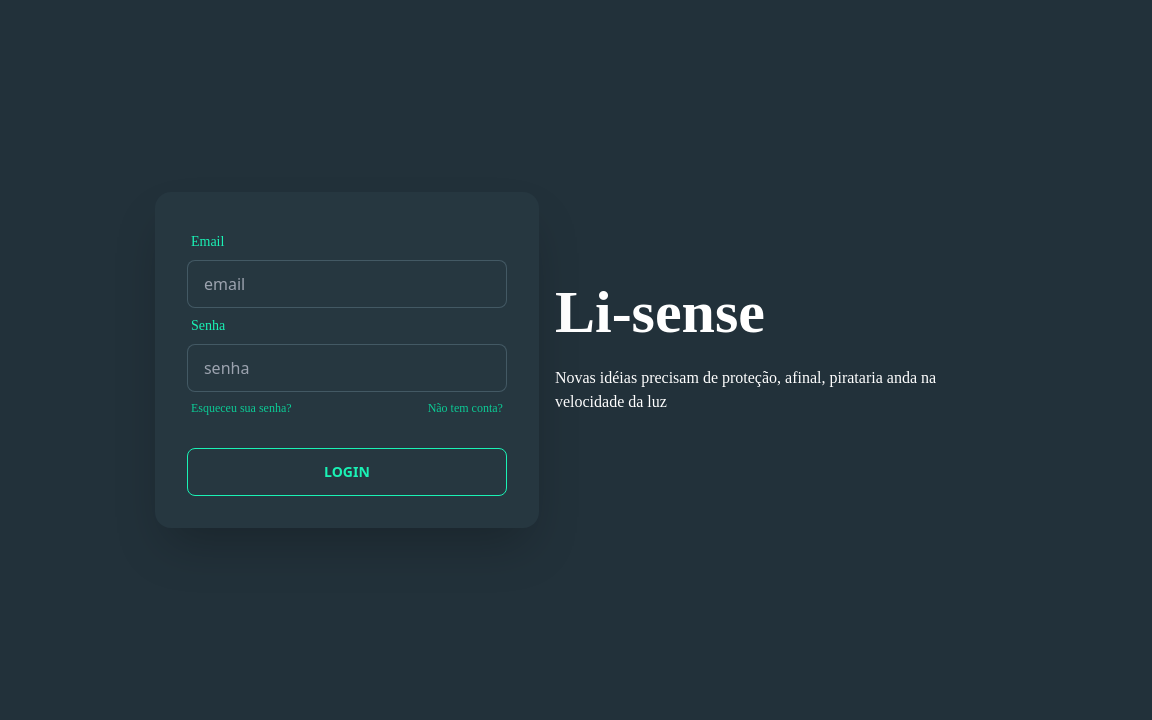
Test: testing Login › login with error in email input
Type "lisense" into the field with id "email" at (347, 284), box top-left (187, 260), bottom-right (507, 308)
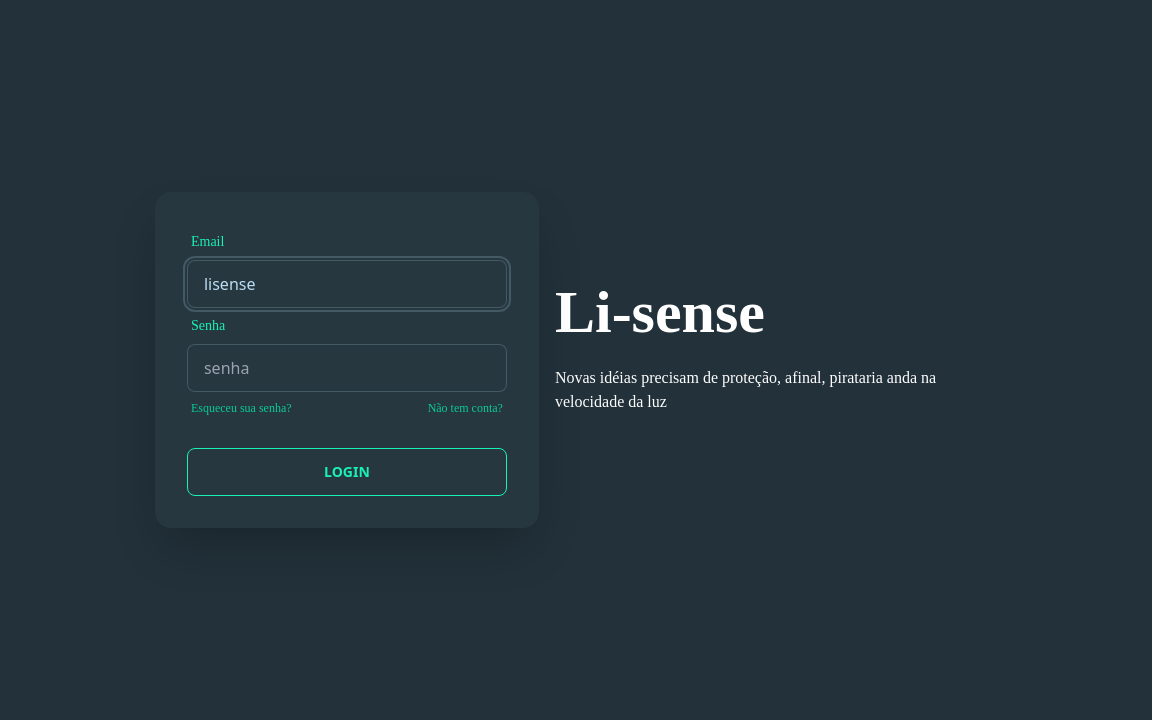
Type "12345678" into the password field with placeholder "senha" at (347, 368), box top-left (187, 344), bottom-right (507, 392)
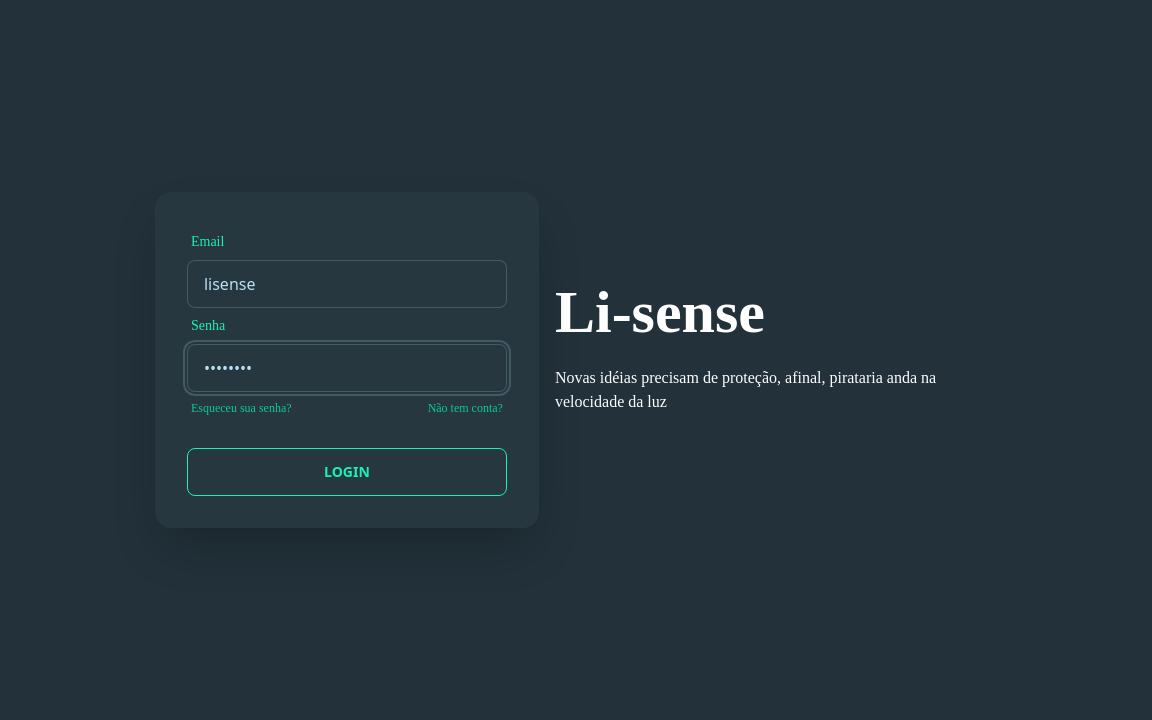
Click the button "Login" at (347, 472), box top-left (187, 448), bottom-right (507, 496)
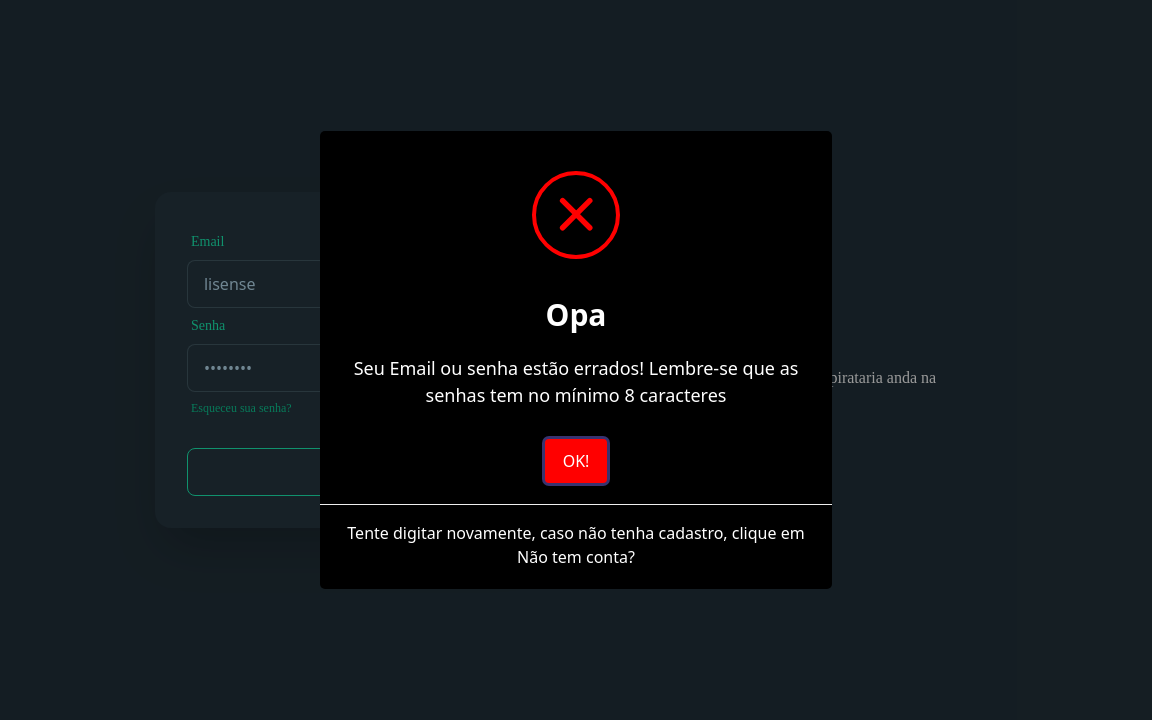
Now the text "Opa" is shown, box top-left (546, 294), bottom-right (606, 335)
